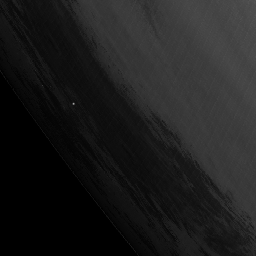Target: (71, 101, 77, 106)
